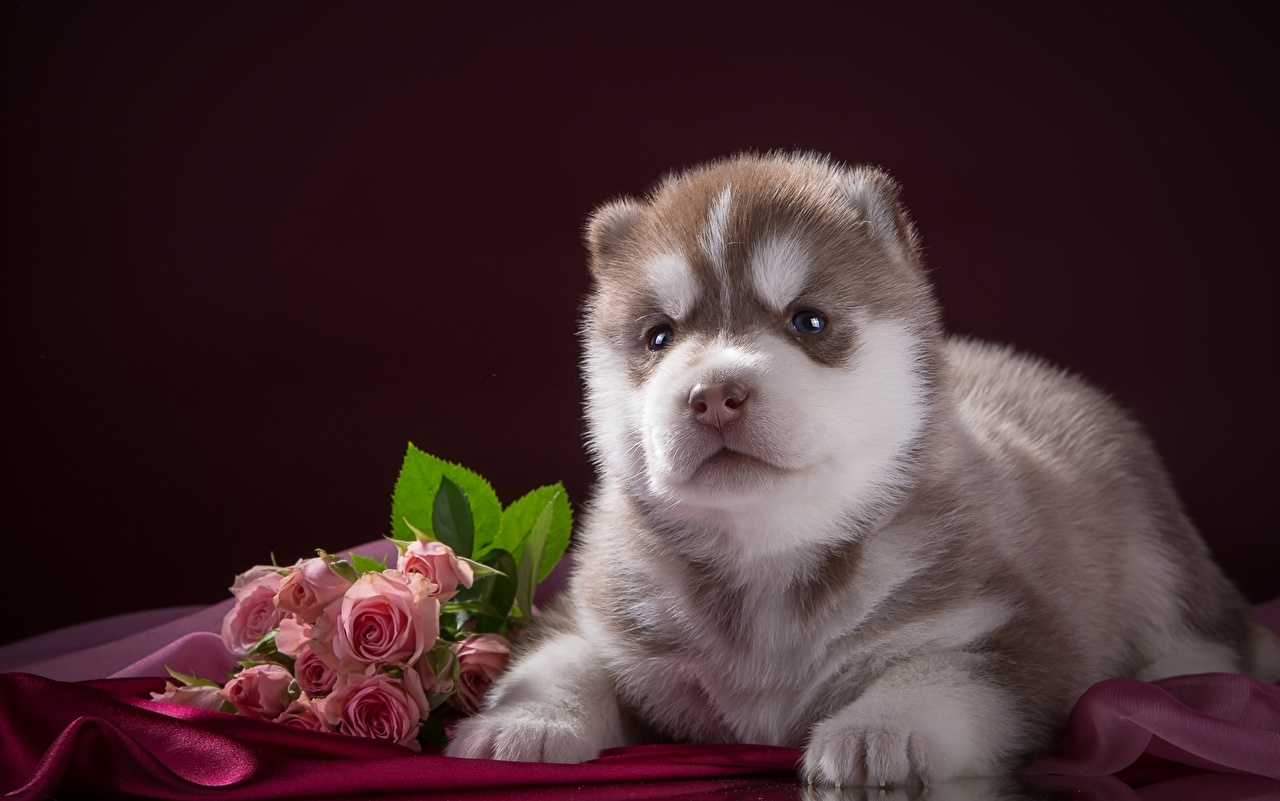husky: (554, 123, 957, 594)
